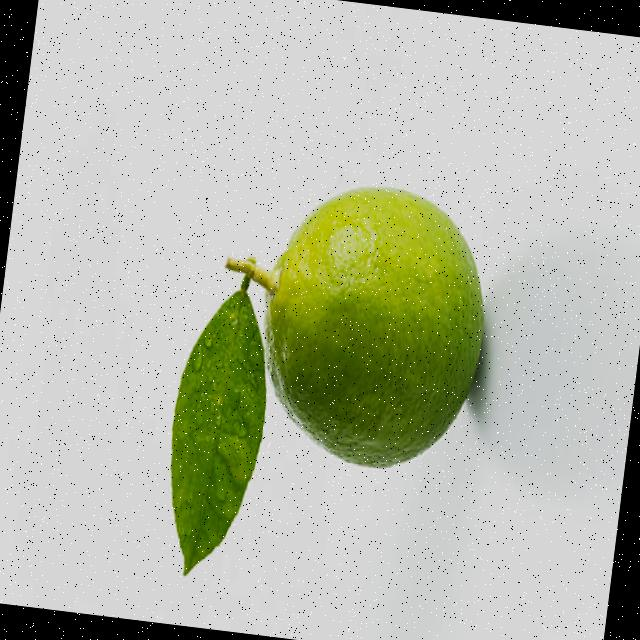Unripe: (243, 170, 502, 480)
